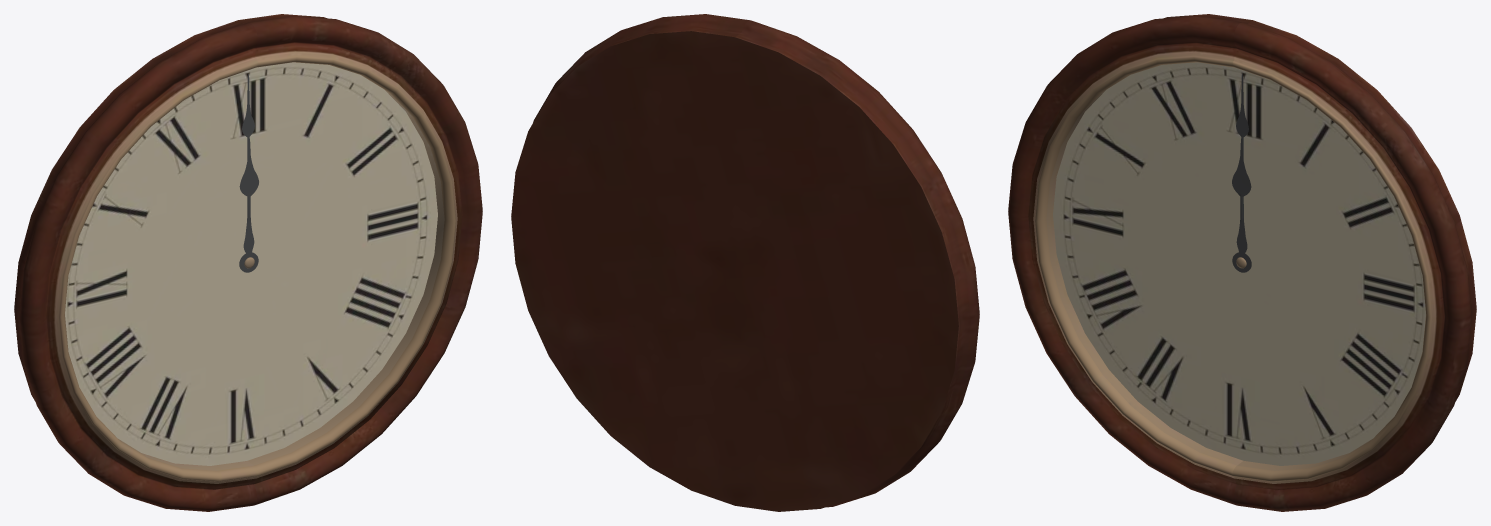
The model's file is antique_wall_clock.glb.
3 renders of one model, left to right at view 1: azimuth 30°, elevation 25°; view 2: azimuth 150°, elevation 25°; view 3: azimuth 330°, elevation 25°, orthographic.
Parts seen in each view (by area): view 1: Object_2; view 2: Object_2; view 3: Object_2.
Boxes of the visible parts, box(x1,y1,x2,y2) form: Object_2: box(14, 14, 482, 511); Object_2: box(511, 14, 979, 511); Object_2: box(1008, 14, 1476, 511).
Size of the model in its own units: 0.4 by 0.4 by 0.0308.
Materials: 1 (1 with a texture image).
